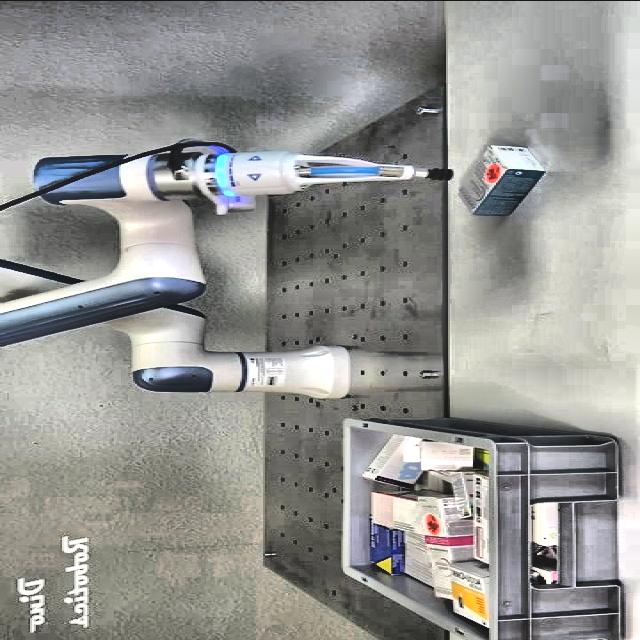robot: (0, 137, 452, 398)
